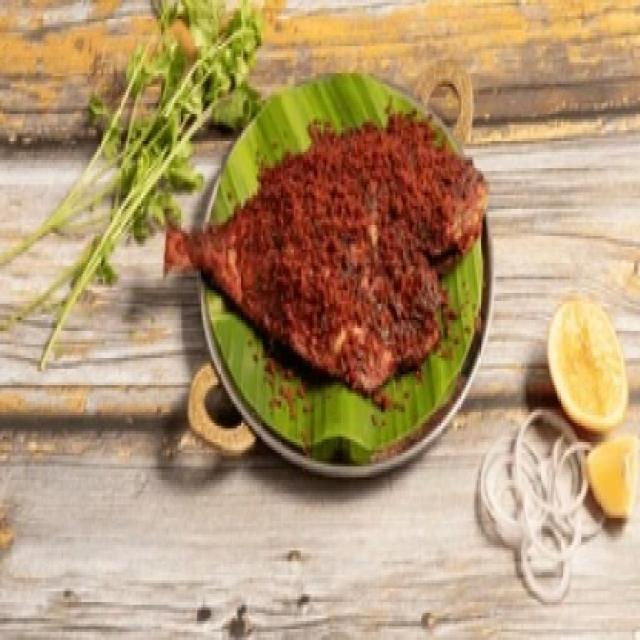FISH FRY: (142, 119, 499, 397)
